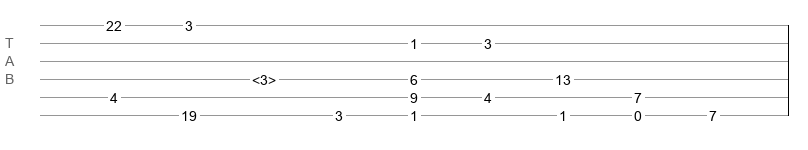0: (634, 108, 642, 118)
1: (410, 108, 418, 118), (410, 36, 418, 46), (559, 108, 567, 118)
13: (555, 72, 571, 82)
19: (181, 108, 197, 118)
22: (106, 18, 122, 28)
3: (185, 18, 193, 28), (335, 108, 343, 118), (484, 36, 492, 46)
4: (110, 90, 118, 100), (484, 90, 492, 100)
6: (410, 72, 418, 82)
7: (634, 90, 642, 100), (709, 108, 717, 118)
9: (410, 90, 418, 100)
harmonic: (252, 72, 276, 82)
